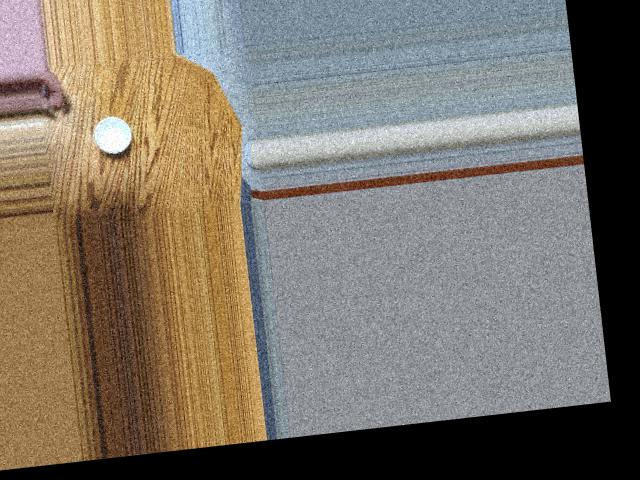cotage: (89, 110, 136, 155)
